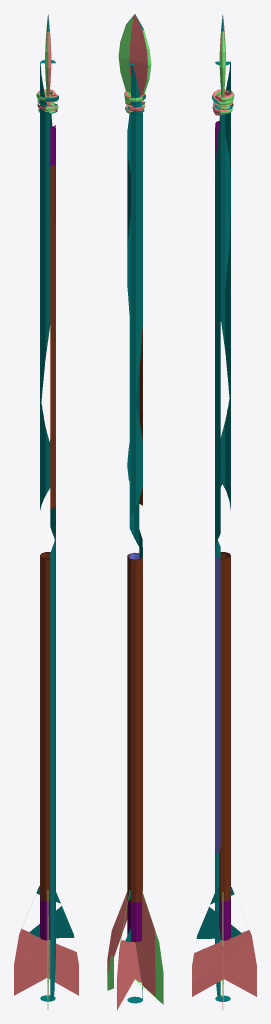
The model's file is arrowHULL.obj.
3 views of the same model, side by side, from view 1: azimuth 90°, elevation 25°; view 2: azimuth 150°, elevation 25°; view 3: azimuth 270°, elevation 25° (orthographic).
Visible parts, largest first — view 1: Cylinder; view 2: Cylinder; view 3: Cylinder.
Part boxes in pixels (<box>): Cylinder: <box>14,14,78,1009</box>; Cylinder: <box>107,14,163,1009</box>; Cylinder: <box>192,14,256,1009</box>.
Size of the model in its own units: 0.0355 by 0.5953 by 0.0355.
